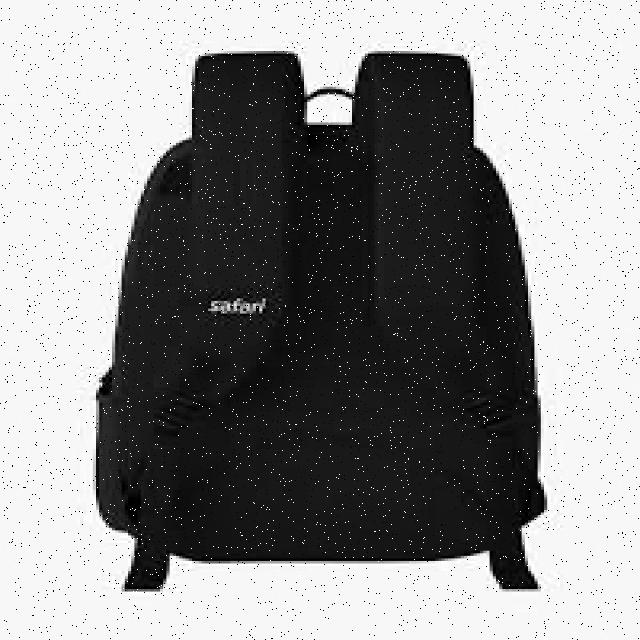backpack: (93, 49, 547, 592)
